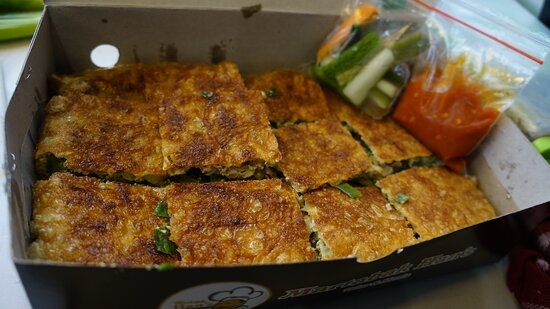martabak: (29, 48, 482, 266)
